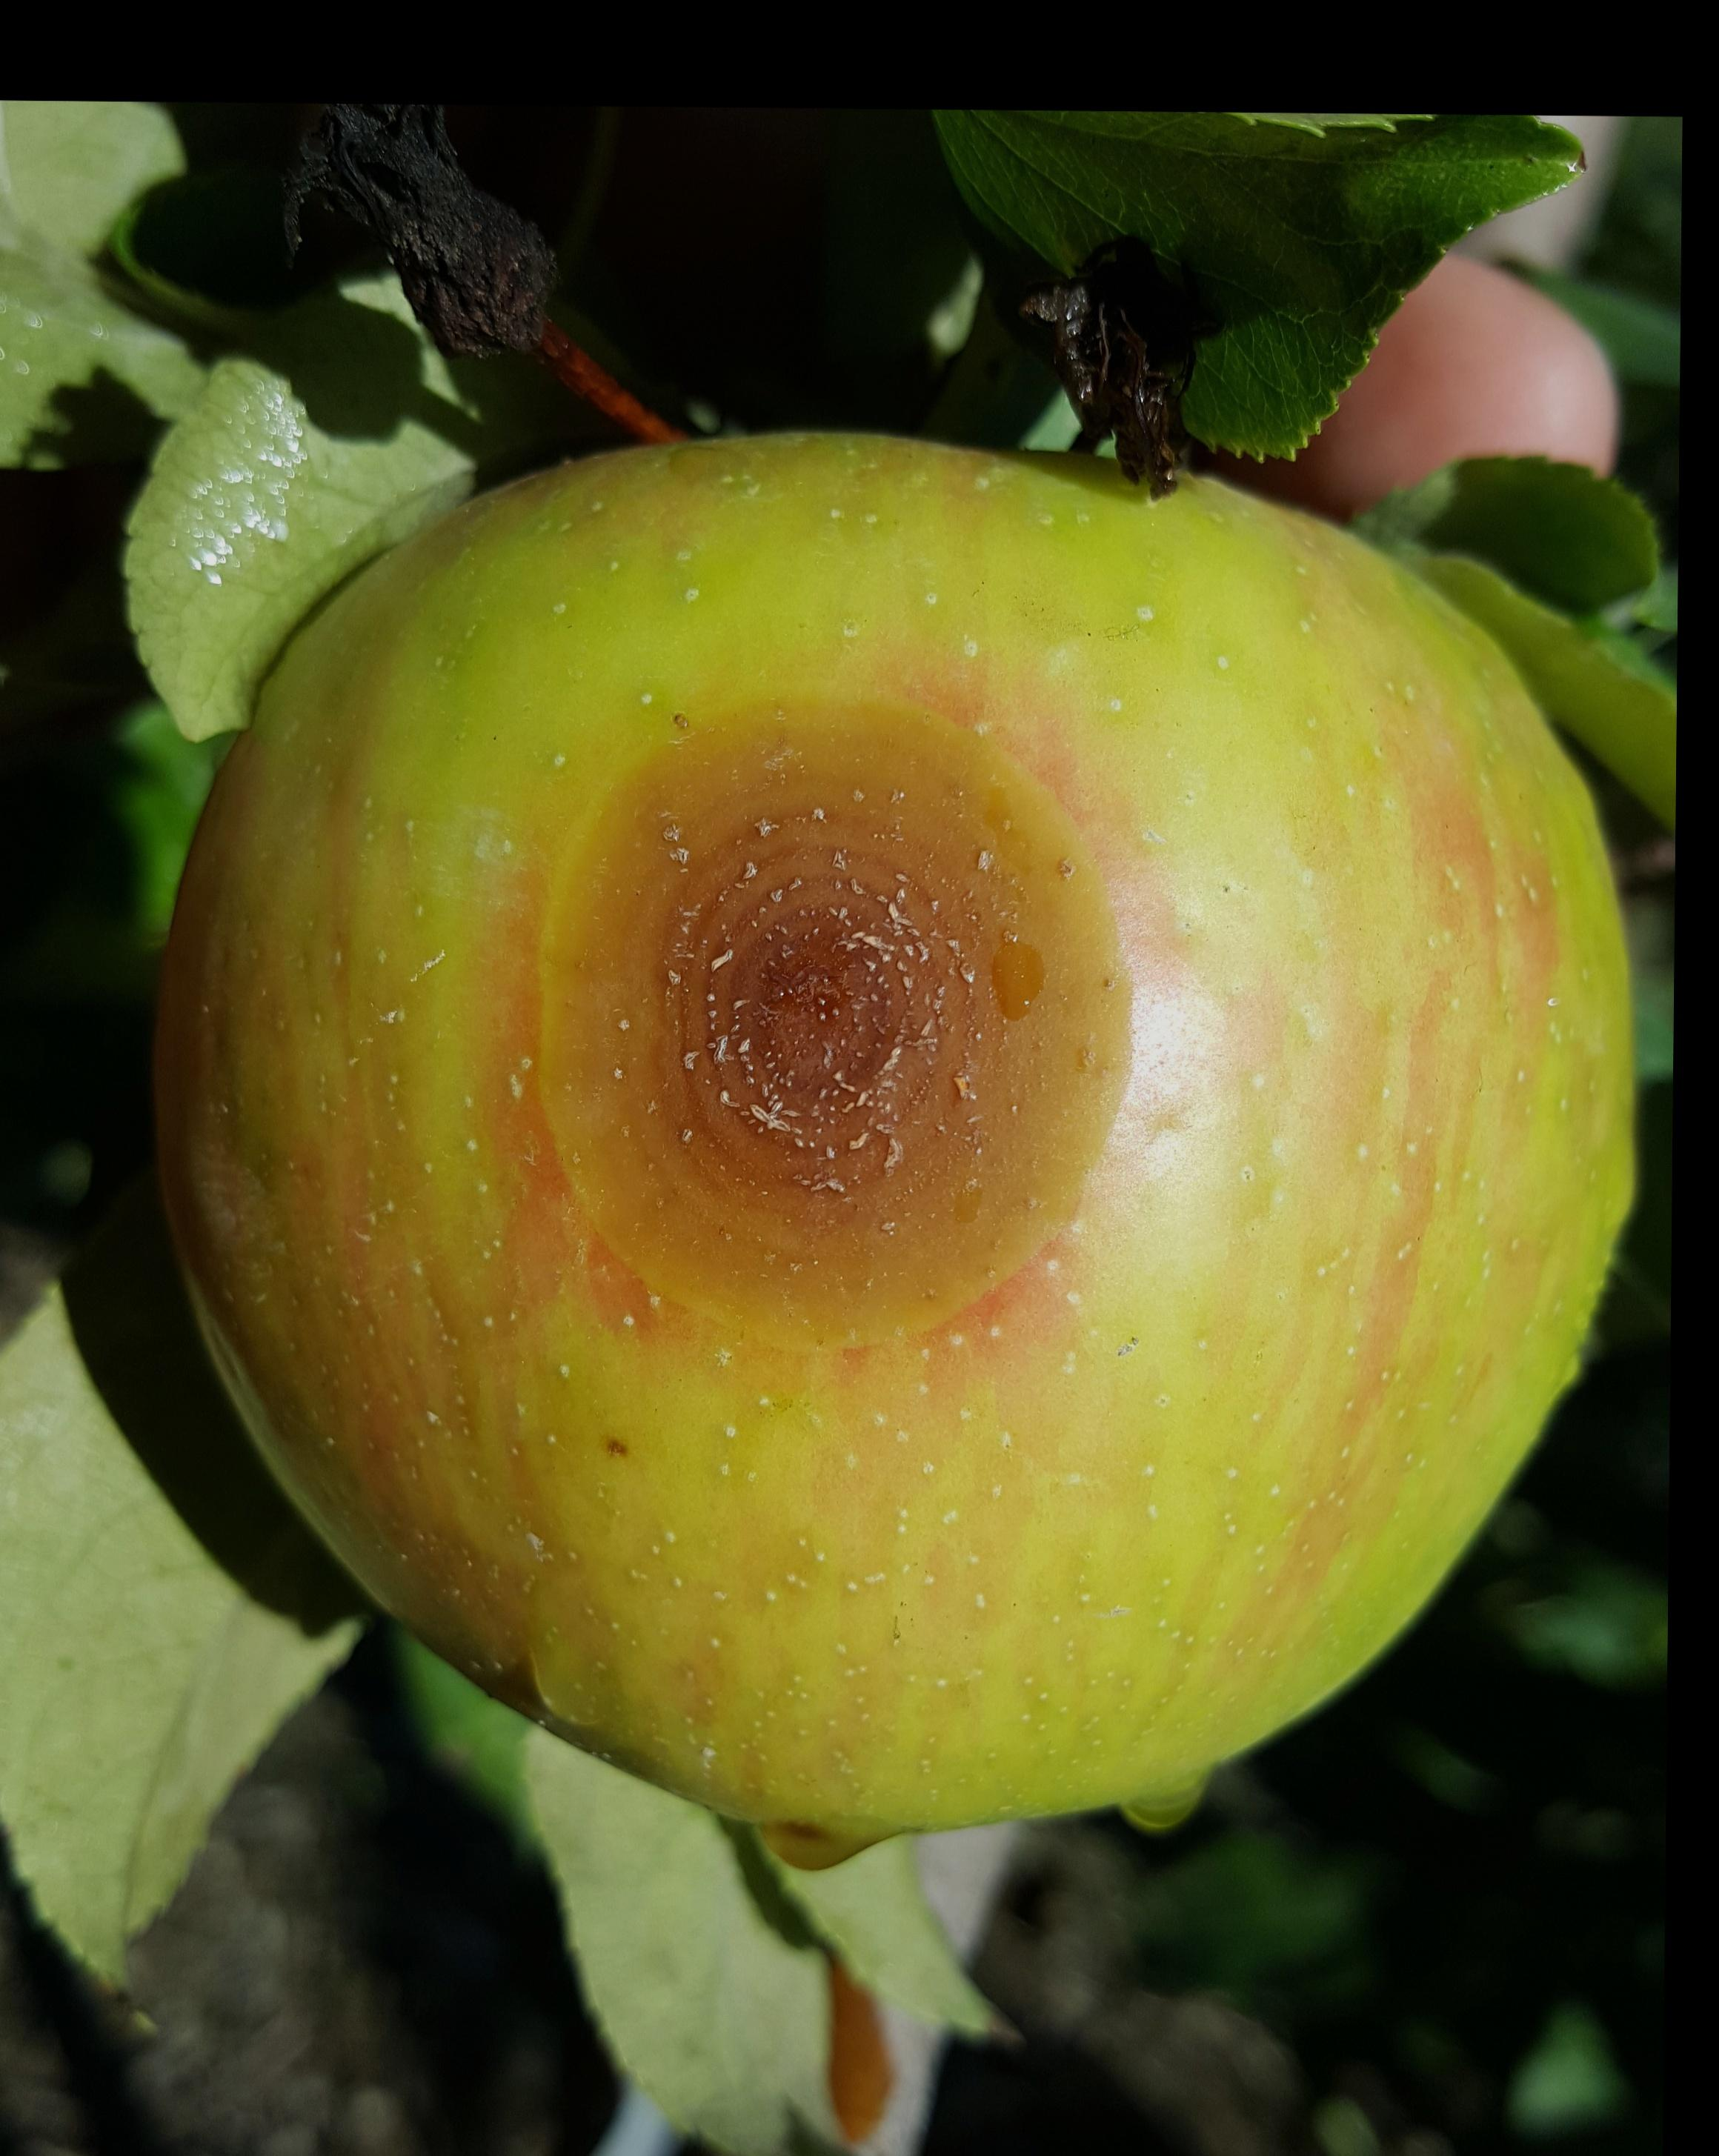rotten apple: (103, 412, 1661, 1830)
